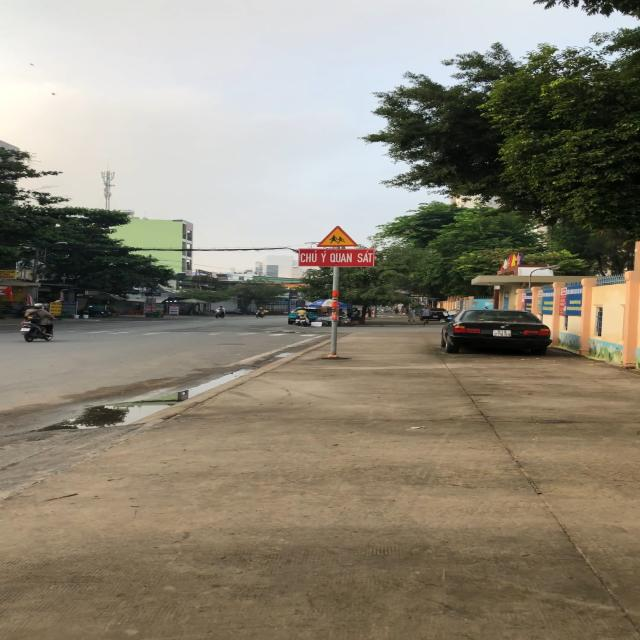Bien bao tre em: (316, 225, 360, 248)
